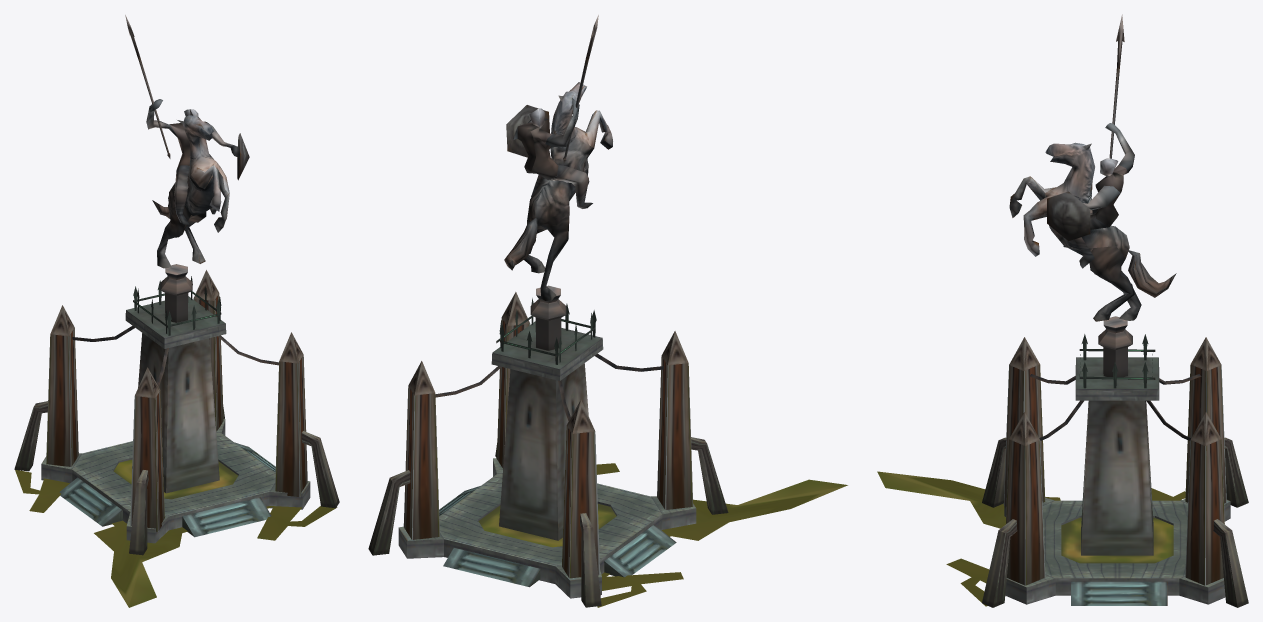
Rendered from HeroTower_Level03.FBX.
3 views of the same model, side by side, from view 1: azimuth 30°, elevation 25°; view 2: azimuth 150°, elevation 25°; view 3: azimuth 270°, elevation 25° (orthographic). The views are drawn at different scales.
Parts seen in each view (by area): view 1: HeroTower_Level03; view 2: HeroTower_Level03; view 3: HeroTower_Level03.
Part boxes in pixels (x1,y1,x2,y2): HeroTower_Level03: (14, 15, 339, 607); HeroTower_Level03: (368, 15, 847, 607); HeroTower_Level03: (877, 14, 1248, 607).
Size of the model in its own units: 1092 by 1911 by 1244.
